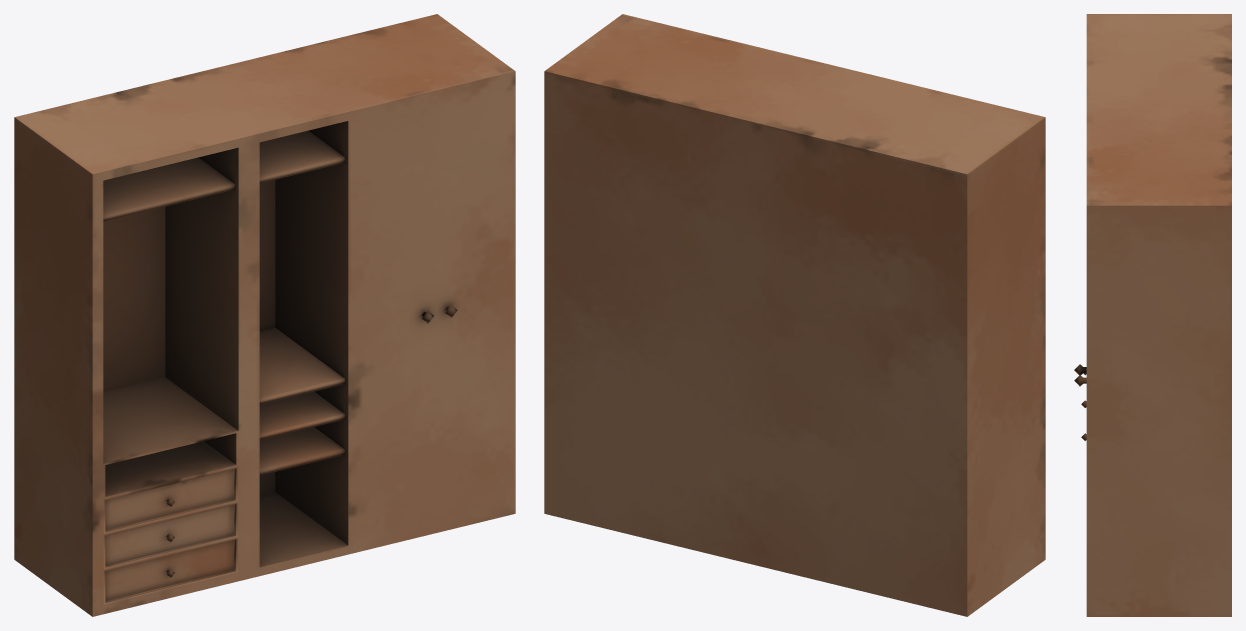
The model's file is Closet1.fbx.
The picture shows the model from 3 angles, left to right: view 1: azimuth 30°, elevation 25°; view 2: azimuth 150°, elevation 25°; view 3: azimuth 270°, elevation 25°; orthographic projection. The views are drawn at different scales.
Parts seen in each view (by area): view 1: Closet1; view 2: Closet1; view 3: Closet1.
Boxes of the visible parts, bbox=[...] form: Closet1: bbox=[14, 14, 515, 616]; Closet1: bbox=[544, 14, 1045, 616]; Closet1: bbox=[1074, 14, 1231, 616].
Bounding box in the file's own units: 2.5 × 2.5 × 0.8696.
